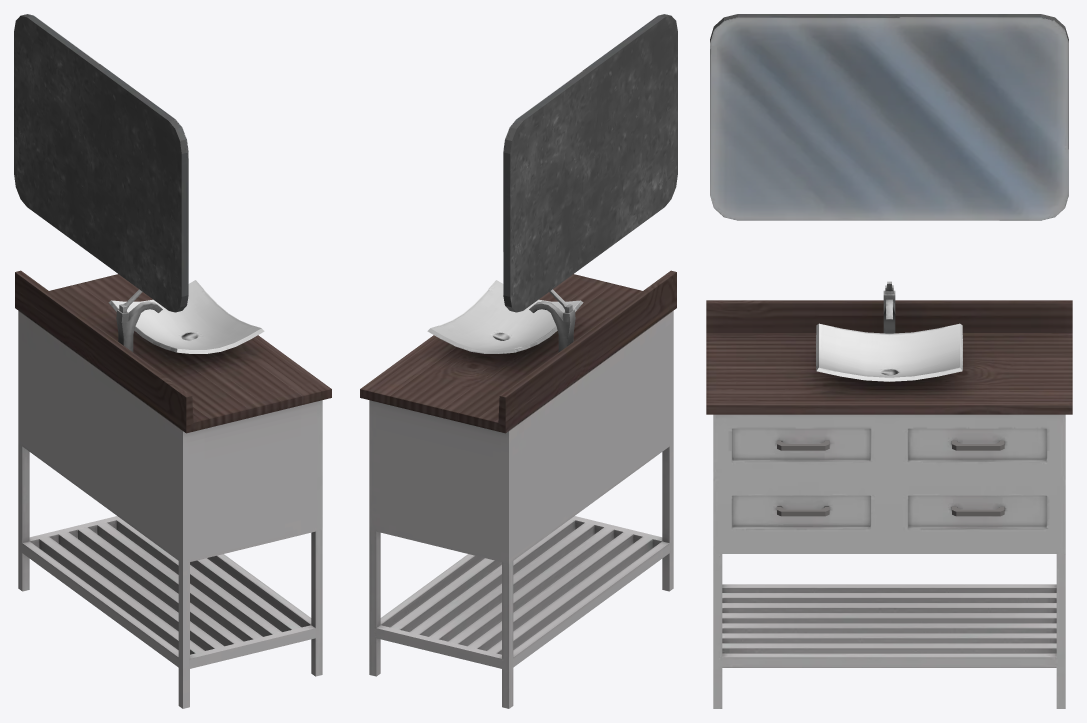
File: bathroom_sink03.glb
The picture shows the model from 3 angles, left to right: view 1: azimuth 30°, elevation 25°; view 2: azimuth 150°, elevation 25°; view 3: azimuth 270°, elevation 25°; orthographic projection. The views are drawn at different scales.
Parts seen in each view (by area): view 1: bathroom_sink03; view 2: bathroom_sink03; view 3: bathroom_sink03.
Boxes of the visible parts, x1,y1,x2,y2 form: bathroom_sink03: [14, 14, 331, 708]; bathroom_sink03: [360, 14, 677, 708]; bathroom_sink03: [706, 14, 1072, 708].
Size of the model in its own units: 0.3247 by 1.21 by 0.6483.
Materials: 1 (1 with a texture image).
